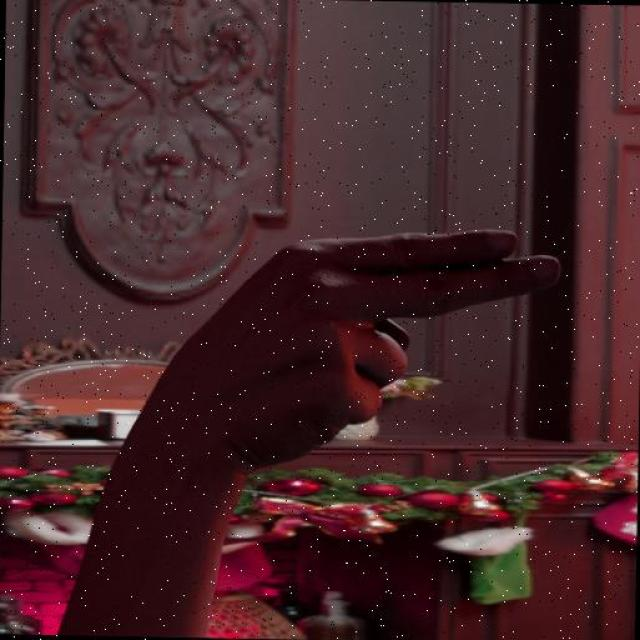H: (132, 220, 570, 524)
